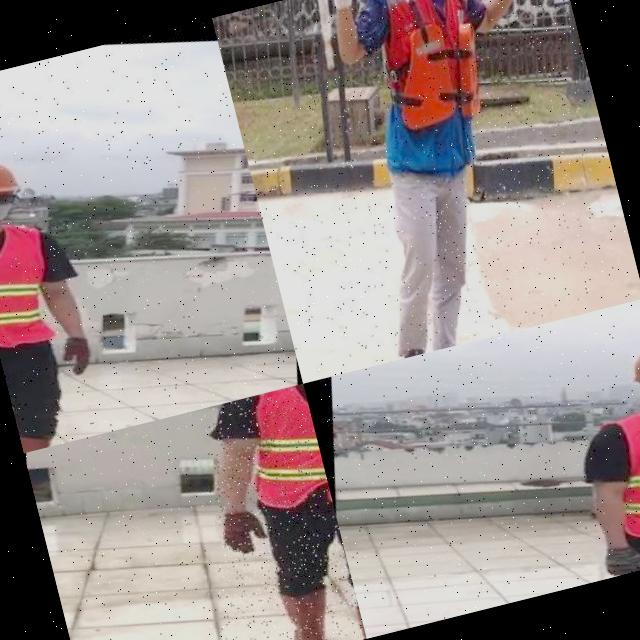boots: (260, 582, 335, 640)
helmet: (0, 138, 29, 209), (614, 331, 640, 404)
vest: (336, 0, 524, 192), (227, 383, 336, 534), (0, 196, 73, 356), (582, 400, 640, 568)
